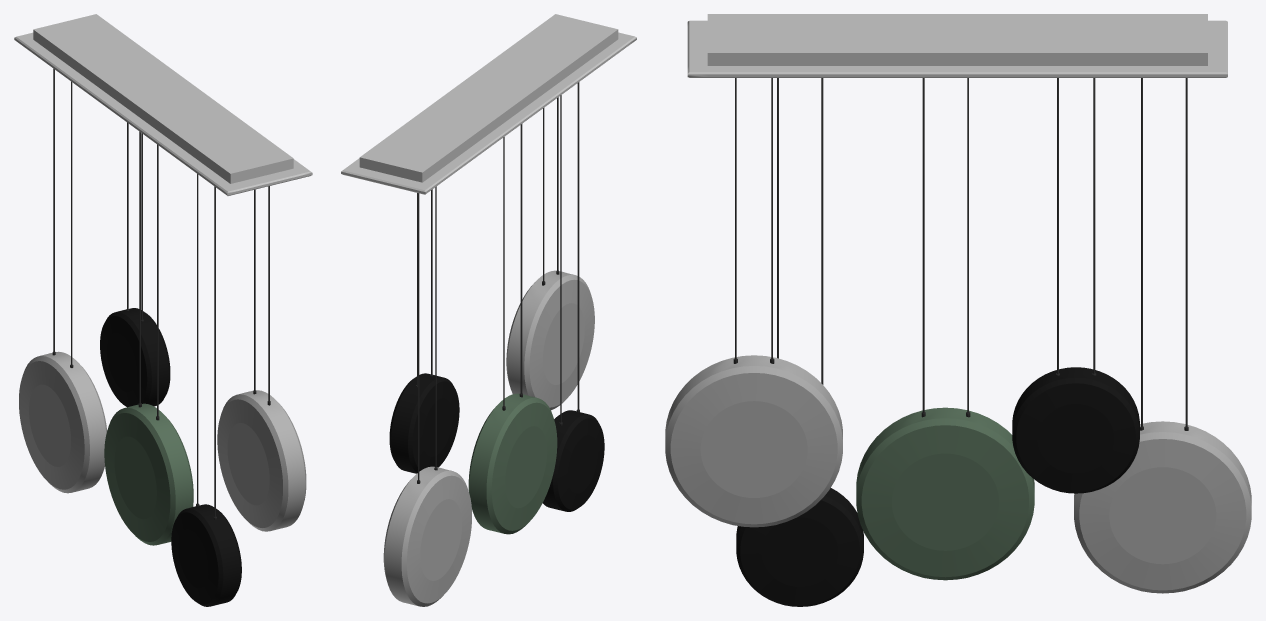
3 views of the same model, side by side, from view 1: azimuth 30°, elevation 25°; view 2: azimuth 150°, elevation 25°; view 3: azimuth 270°, elevation 25° (orthographic). The views are drawn at different scales.
Parts seen in each view (by area): view 1: mountTTT, 4plafond260904_5, 1plafond260904_5, 3plafond260904_5, 5plafond260904_5, 2plafond260904_5, 260904_5cable0003, 260904_5cable0004, 260904_5cable00010, 260904_5cable0009, 260904_5cable0005, 260904_5cable0006 (+2 smaller); view 2: mountTTT, 3plafond260904_5, 1plafond260904_5, 4plafond260904_5, 2plafond260904_5, 5plafond260904_5, 260904_5cable0003, 260904_5cable0005, 260904_5cable0004, 260904_5cable00010, 260904_5cable0009, 260904_5cable0006; view 3: mountTTT, 4plafond260904_5, 3plafond260904_5, 1plafond260904_5, 2plafond260904_5, 5plafond260904_5, 260904_5cable00010, 260904_5cable0005, 260904_5cable0004, 260904_5cable0008.
Part boxes in pixels (x1=…): mountTTT: x1=14, y1=14, x2=312, y2=195; 4plafond260904_5: x1=217, y1=390, x2=306, y2=531; 1plafond260904_5: x1=19, y1=351, x2=107, y2=493; 3plafond260904_5: x1=104, y1=403, x2=193, y2=545; 5plafond260904_5: x1=171, y1=504, x2=241, y2=606; 2plafond260904_5: x1=100, y1=308, x2=170, y2=407; 260904_5cable0003: x1=213, y1=186, x2=216, y2=519; 260904_5cable0004: x1=196, y1=174, x2=199, y2=506; 260904_5cable00010: x1=52, y1=68, x2=55, y2=355; 260904_5cable0009: x1=70, y1=81, x2=73, y2=367; 260904_5cable0005: x1=156, y1=144, x2=159, y2=420; 260904_5cable0006: x1=138, y1=131, x2=141, y2=407; mountTTT: x1=341, y1=14, x2=636, y2=194; 3plafond260904_5: x1=468, y1=393, x2=557, y2=534; 1plafond260904_5: x1=383, y1=466, x2=471, y2=606; 4plafond260904_5: x1=506, y1=270, x2=594, y2=410; 2plafond260904_5: x1=389, y1=373, x2=459, y2=473; 5plafond260904_5: x1=543, y1=410, x2=604, y2=511; 260904_5cable0003: x1=576, y1=82, x2=579, y2=412; 260904_5cable0005: x1=519, y1=124, x2=522, y2=397; 260904_5cable0004: x1=559, y1=95, x2=562, y2=425; 260904_5cable00010: x1=417, y1=193, x2=420, y2=483; 260904_5cable0009: x1=434, y1=186, x2=437, y2=470; 260904_5cable0006: x1=502, y1=137, x2=505, y2=410; mountTTT: x1=687, y1=14, x2=1227, y2=77; 4plafond260904_5: x1=665, y1=355, x2=842, y2=527; 3plafond260904_5: x1=856, y1=407, x2=1034, y2=580; 1plafond260904_5: x1=1074, y1=421, x2=1251, y2=593; 2plafond260904_5: x1=1012, y1=367, x2=1139, y2=493; 5plafond260904_5: x1=736, y1=488, x2=863, y2=606; 260904_5cable00010: x1=1184, y1=78, x2=1188, y2=430; 260904_5cable0005: x1=921, y1=78, x2=925, y2=417; 260904_5cable0004: x1=821, y1=78, x2=823, y2=384; 260904_5cable0008: x1=1092, y1=78, x2=1096, y2=375.
Bounding box in the file's own units: 150 × 770 × 706.
